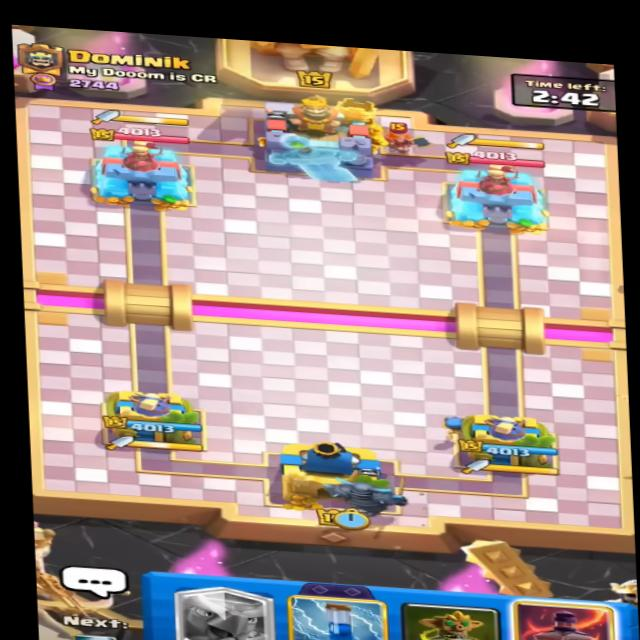valkyrie: (377, 122, 439, 158)
